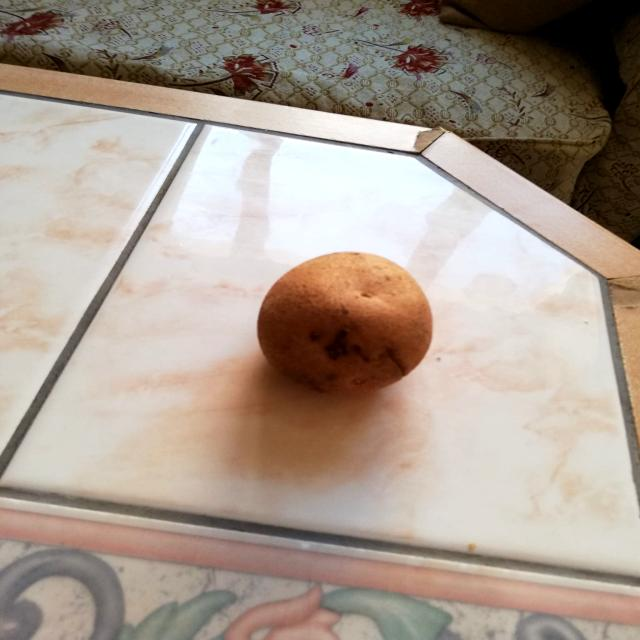potato: (254, 241, 438, 400)
